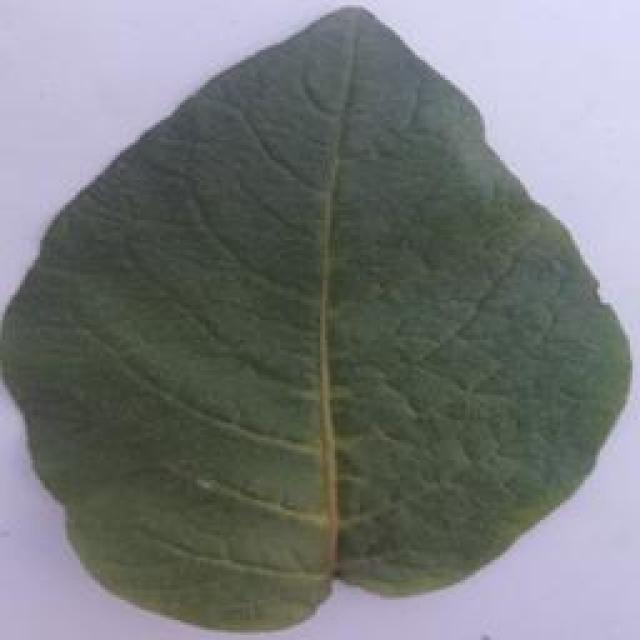Potato_Healthy: (5, 7, 622, 630)
